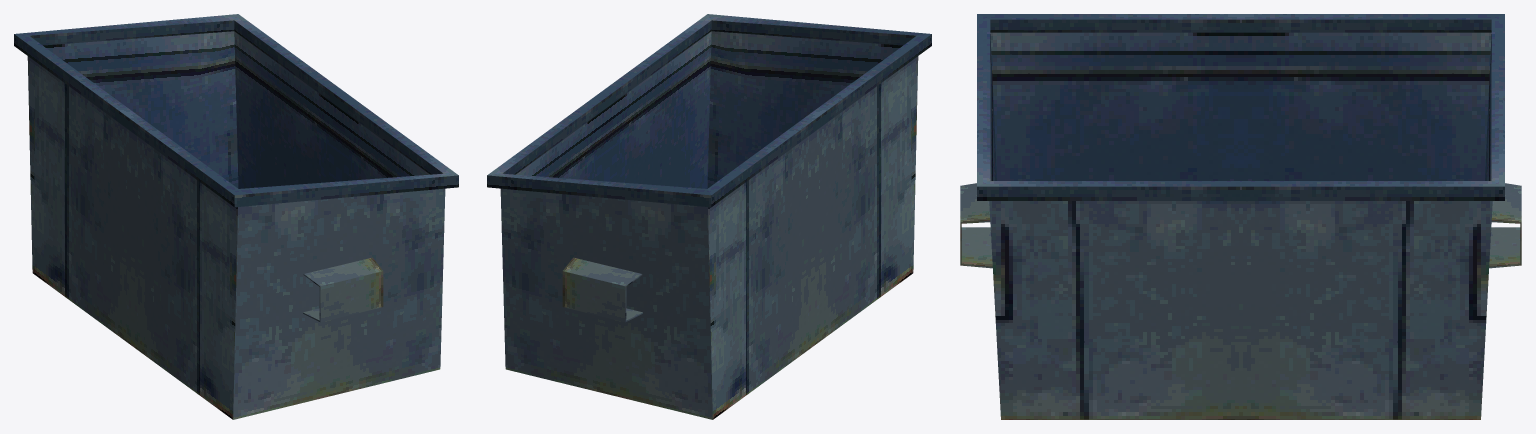
File: dumpster_diagonal_empty_no_lid_blue.glb
The picture shows the model from 3 angles, left to right: view 1: azimuth 30°, elevation 25°; view 2: azimuth 150°, elevation 25°; view 3: azimuth 270°, elevation 25°; orthographic projection. The views are drawn at different scales.
Visible parts, largest first — view 1: dumpster_diagonal_empty_no_lid_blue; view 2: dumpster_diagonal_empty_no_lid_blue; view 3: dumpster_diagonal_empty_no_lid_blue.
Part boxes in pixels (box(x1,y1,x2,y2)): dumpster_diagonal_empty_no_lid_blue: box(14, 14, 458, 419); dumpster_diagonal_empty_no_lid_blue: box(487, 14, 931, 419); dumpster_diagonal_empty_no_lid_blue: box(960, 14, 1521, 419).
Bounding box in the file's own units: 2.03 × 2.02 × 3.67.
1 material, 1 textured.
